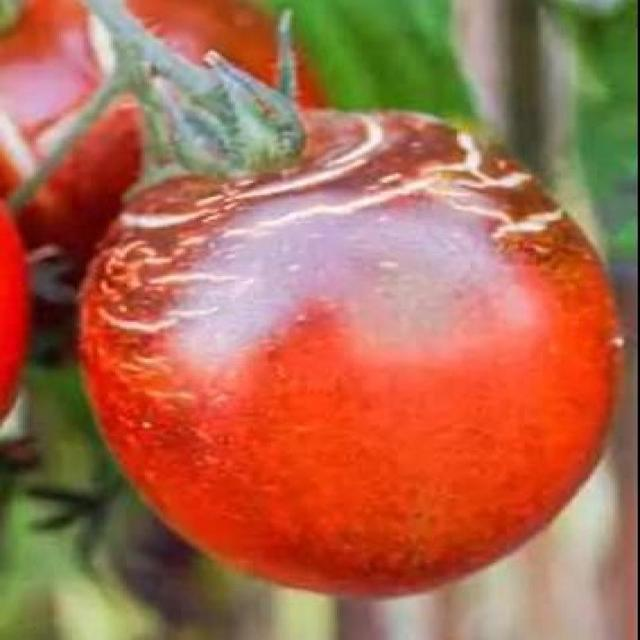Cracking Fruit: (61, 19, 330, 192)
